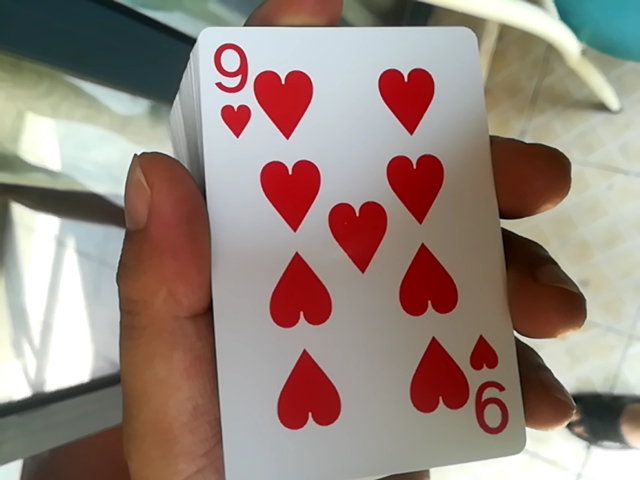hx 9: (195, 23, 588, 480)
